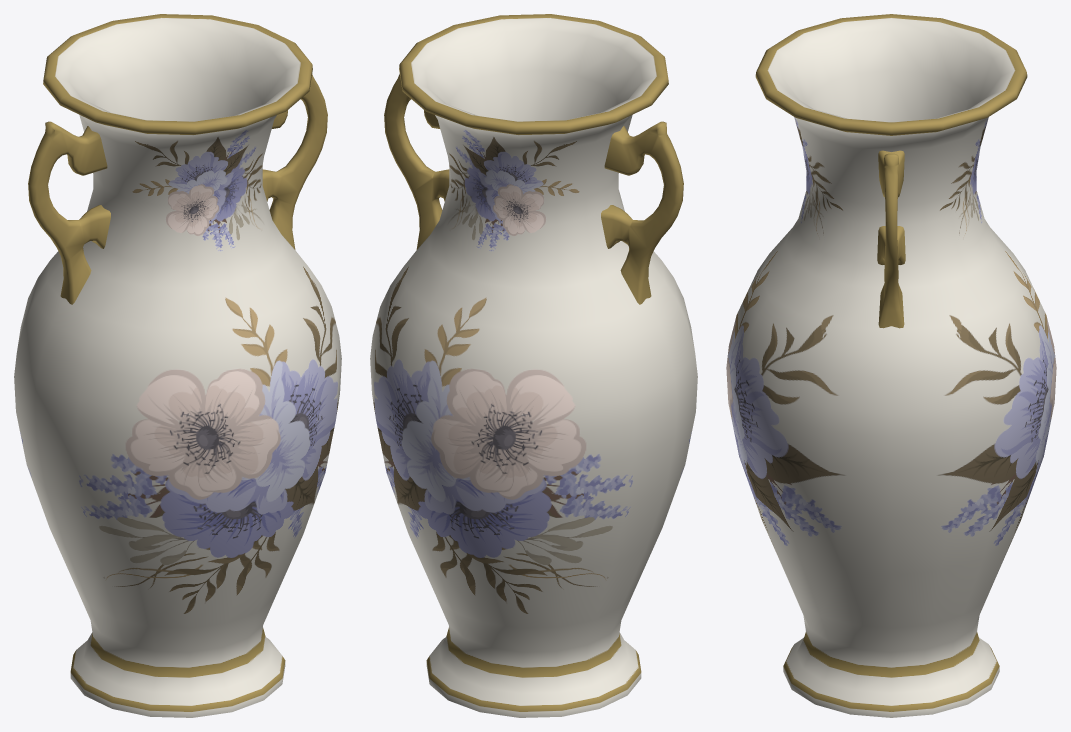
The model's file is RetroVase02.FBX.
3 renders of one model, left to right at view 1: azimuth 30°, elevation 25°; view 2: azimuth 150°, elevation 25°; view 3: azimuth 270°, elevation 25°, orthographic.
Visible parts, largest first — view 1: RetroVase02; view 2: RetroVase02; view 3: RetroVase02.
Boxes of the visible parts, x1,y1,x2,y2 form: RetroVase02: (14, 14, 341, 717); RetroVase02: (370, 14, 697, 717); RetroVase02: (726, 14, 1056, 717).
Size of the model in its own units: 0.1798 by 0.3486 by 0.1731.
